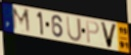1: (36, 11, 44, 37)
6: (51, 15, 64, 39)
M: (11, 6, 32, 36)
P: (85, 20, 100, 45)
U: (65, 15, 83, 43)
V: (100, 21, 119, 49)
